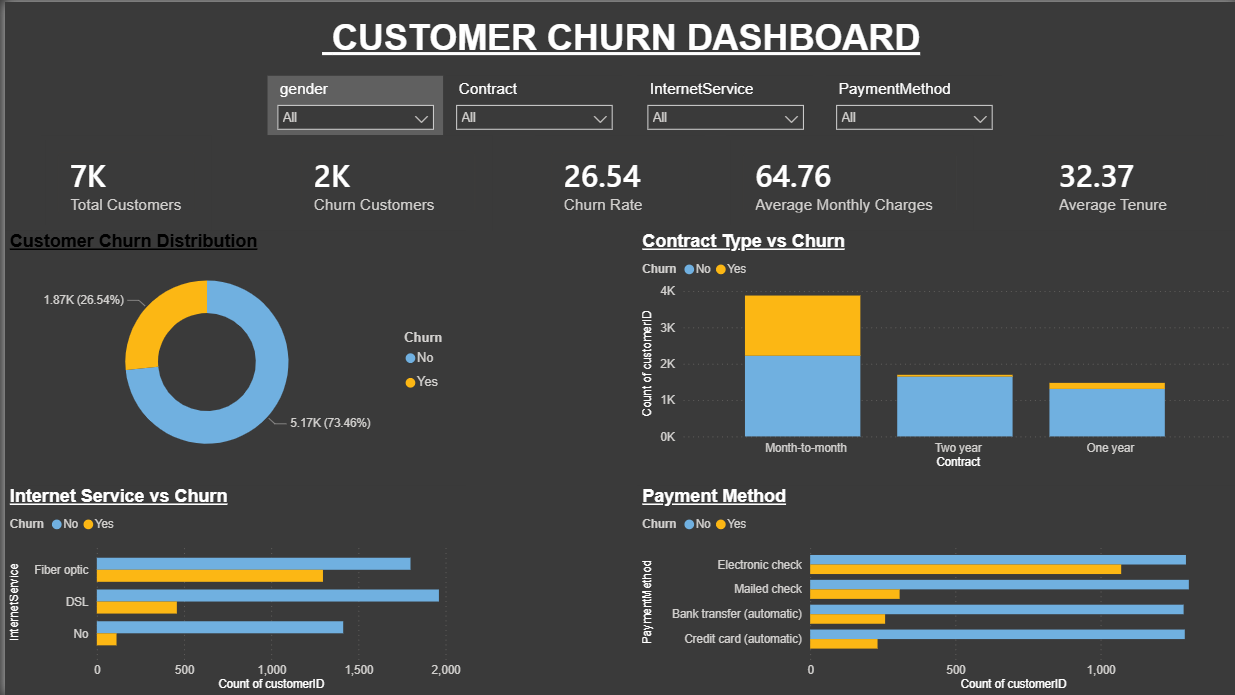

The page's visual inventory and layout, read from the dashboard file:
{"tool":"powerbi","page":{"name":"Executive Summary","canvas":[1280,720],"ordinal":0},"visuals":[{"type":"textbox","box":[0,11,1280.3,56.3],"z":0},{"type":"cardVisual","fields":{"Data":["cleaned_dataset.Total Customers"]},"box":[37,138.6,177,98.8],"z":1},{"type":"cardVisual","fields":{"Data":["cleaned_dataset.Churn Customers"]},"box":[290.9,138.6,215.4,98.8],"z":2},{"type":"cardVisual","fields":{"Data":["cleaned_dataset.Churn Rate"]},"box":[550.3,138.6,177,98.8],"z":3},{"type":"cardVisual","fields":{"Data":["cleaned_dataset.Average Monthly Charges"]},"box":[749.2,138.6,256.6,98.8],"z":4},{"type":"cardVisual","fields":{"Data":["cleaned_dataset.Average Tenure"]},"box":[1064.8,138.6,201.7,98.8],"z":5},{"type":"donutChart","title":"Customer Churn Distribution","fields":{"Category":["cleaned_dataset.Churn"],"Y":["CountNonNull(cleaned_dataset.customerID)"]},"box":[0,237.4,478.9,252.5],"z":6},{"type":"columnChart","title":"Contract Type vs Churn","fields":{"Series":["cleaned_dataset.Churn"],"Category":["cleaned_dataset.Contract"],"Y":["CountNonNull(cleaned_dataset.customerID)"]},"box":[657.3,237.4,623,252.5],"z":7},{"type":"clusteredBarChart","title":"Internet Service vs Churn","fields":{"Category":["cleaned_dataset.InternetService"],"Series":["cleaned_dataset.Churn"],"Y":["CountNonNull(cleaned_dataset.customerID)"]},"box":[0,502.2,478.9,218.2],"z":8},{"type":"clusteredBarChart","title":"Payment Method","fields":{"Category":["cleaned_dataset.PaymentMethod"],"Y":["CountNonNull(cleaned_dataset.customerID)"],"Series":["cleaned_dataset.Churn"]},"box":[657.3,502.2,623,218.2],"z":9},{"type":"slicer","fields":{"Values":["cleaned_dataset.gender"]},"box":[273.1,76.8,182.5,61.7],"z":10},{"type":"slicer","fields":{"Values":["cleaned_dataset.Contract"]},"box":[458.3,76.8,182.5,61.7],"z":11},{"type":"slicer","fields":{"Values":["cleaned_dataset.InternetService"]},"box":[657.3,76.8,182.5,61.7],"z":12},{"type":"slicer","fields":{"Values":["cleaned_dataset.PaymentMethod"]},"box":[853.5,76.8,182.5,61.7],"z":13}]}

Visuals, with their boxes in screenshot pixels (x1, y1, x2, y2), scaled from the page's 1280x720 canvas onto the 1235x695 screenshot:
textbox: (0, 11, 1234, 65)
cardVisual - cleaned_dataset.Total Customers: (36, 134, 206, 229)
cardVisual - cleaned_dataset.Churn Customers: (281, 134, 489, 229)
cardVisual - cleaned_dataset.Churn Rate: (531, 134, 702, 229)
cardVisual - cleaned_dataset.Average Monthly Charges: (723, 134, 970, 229)
cardVisual - cleaned_dataset.Average Tenure: (1027, 134, 1222, 229)
"Customer Churn Distribution" donutChart: (0, 229, 462, 473)
"Contract Type vs Churn" columnChart: (634, 229, 1234, 473)
"Internet Service vs Churn" clusteredBarChart: (0, 485, 462, 694)
"Payment Method" clusteredBarChart: (634, 485, 1234, 694)
slicer - cleaned_dataset.gender: (263, 74, 440, 134)
slicer - cleaned_dataset.Contract: (442, 74, 618, 134)
slicer - cleaned_dataset.InternetService: (634, 74, 810, 134)
slicer - cleaned_dataset.PaymentMethod: (823, 74, 1000, 134)
